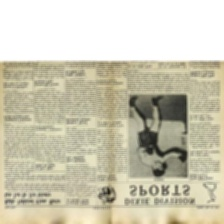news_paper: (0, 58, 224, 224)
